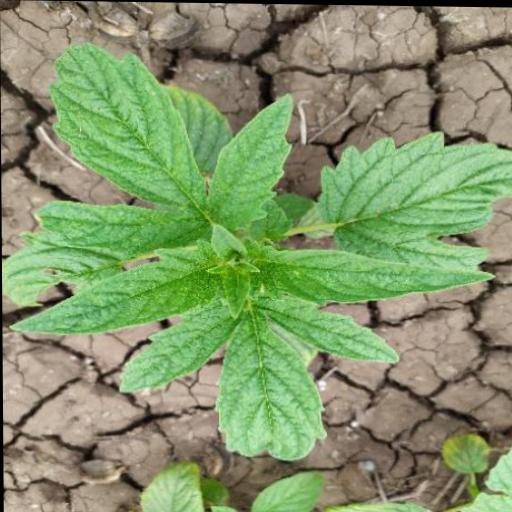crop: (0, 40, 512, 452)
